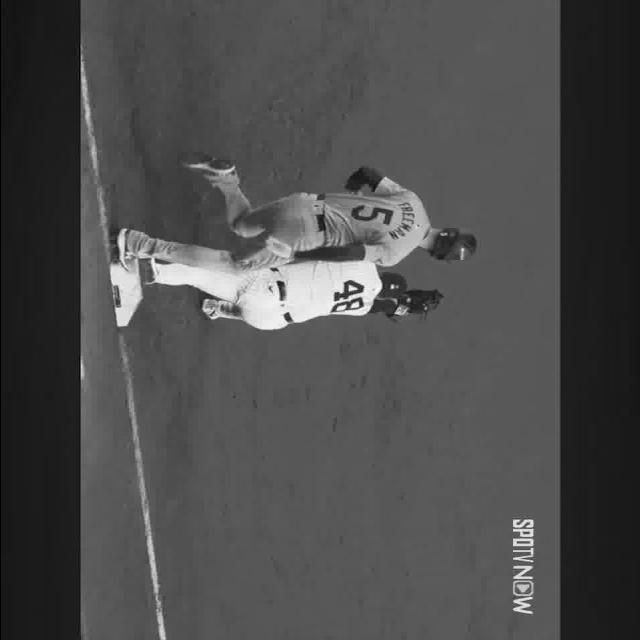base: (108, 262, 142, 326)
baseball_glove: (387, 290, 442, 319)
shoe: (178, 152, 233, 174), (113, 229, 136, 271), (138, 258, 158, 285), (200, 298, 218, 320)
